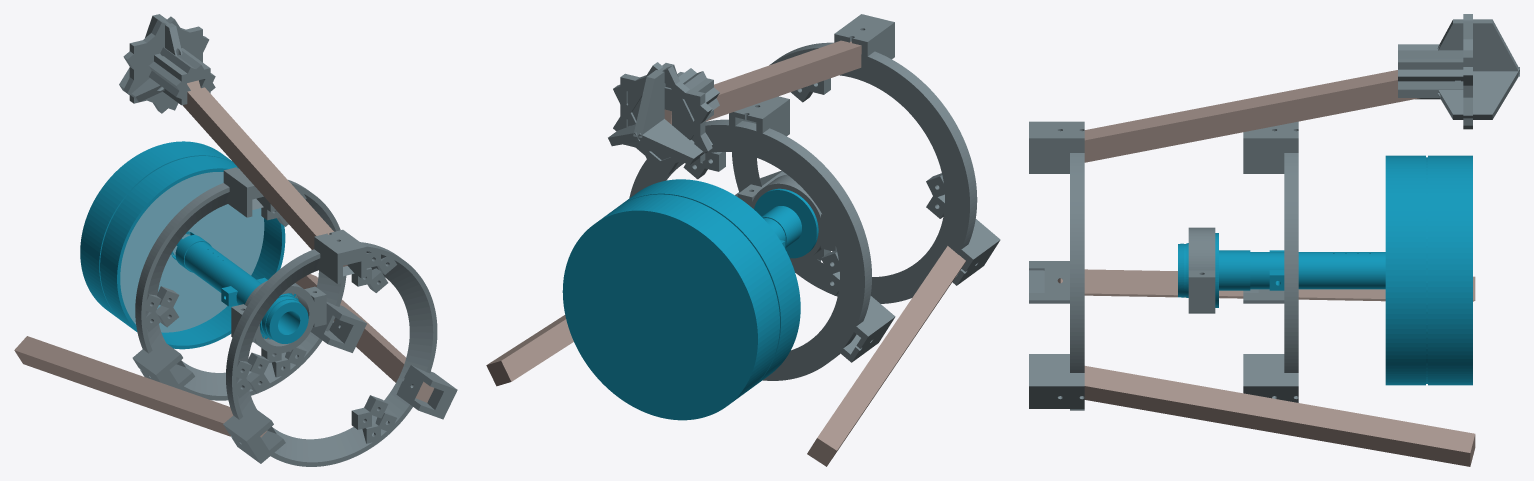
Rendered from conjunto_agua.glb.
The picture shows the model from 3 angles, left to right: view 1: azimuth 30°, elevation 25°; view 2: azimuth 150°, elevation 25°; view 3: azimuth 270°, elevation 25°; orthographic projection. The views are drawn at different scales.
Visible parts, largest first — view 1: world; view 2: world; view 3: world.
Part boxes in pixels (x1,y1,x2,y2): world: (14, 14, 457, 466); world: (486, 14, 1000, 466); world: (1029, 14, 1519, 466).
Size of the model in its own units: 341 by 347 by 406.
